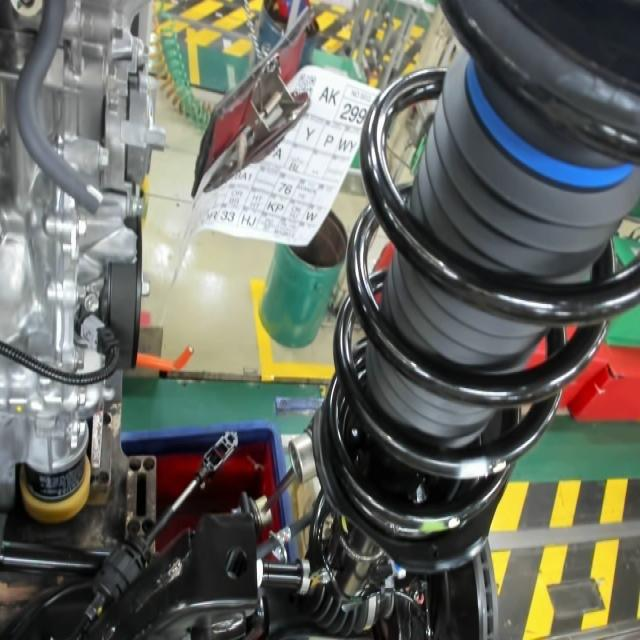Bumper-BR: (460, 55, 639, 195)
